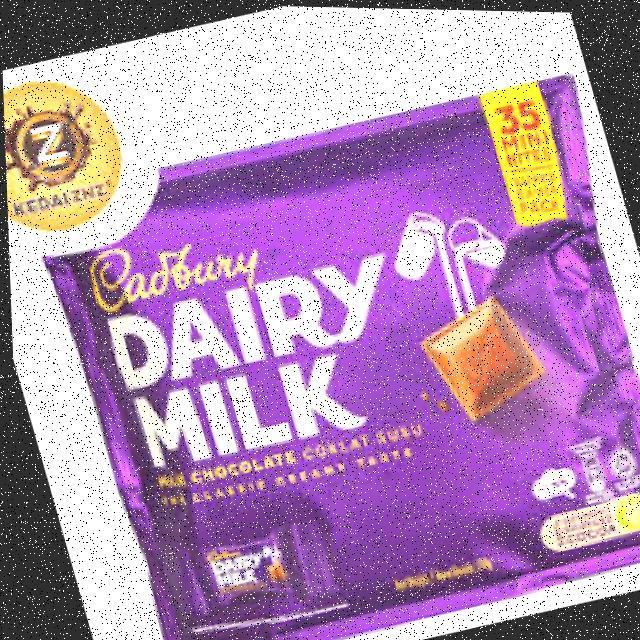cadbury_chocolate: (70, 73, 588, 640)
